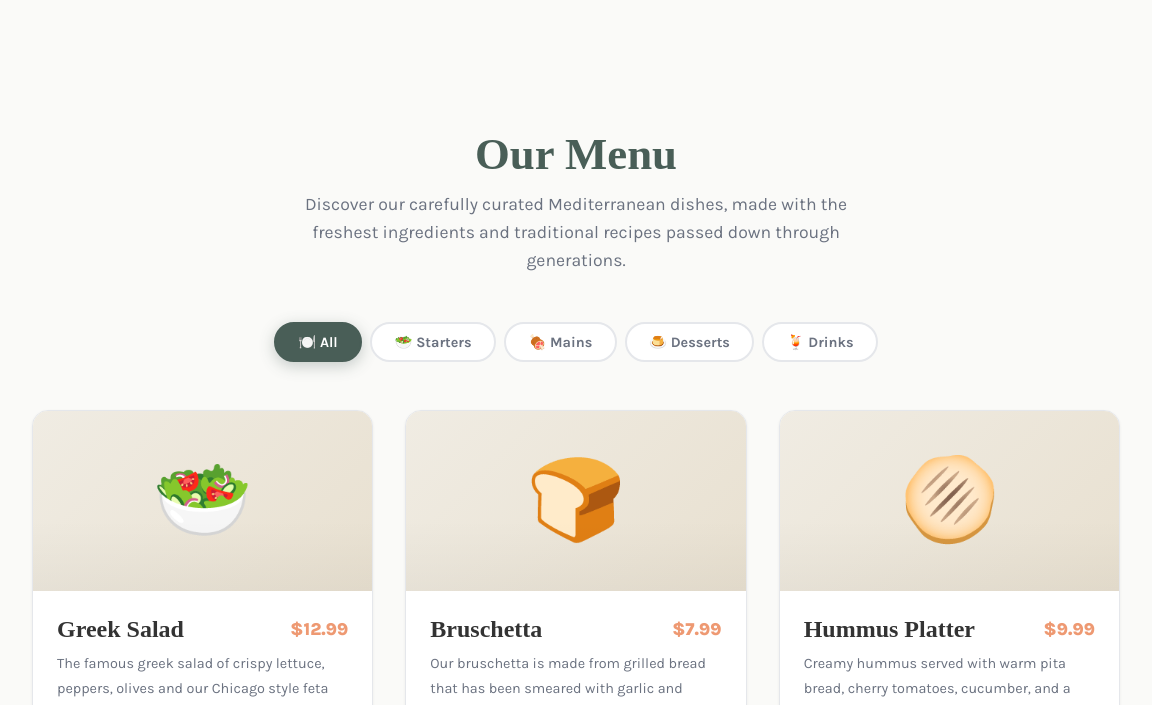
Scenario: Menu Page › filters items when clicking Drinks tab
What coordinates should you click on to do the following:
click the button "🍹 Drinks"
I would click on:
 (820, 342)
Its box is [762,322,878,362].
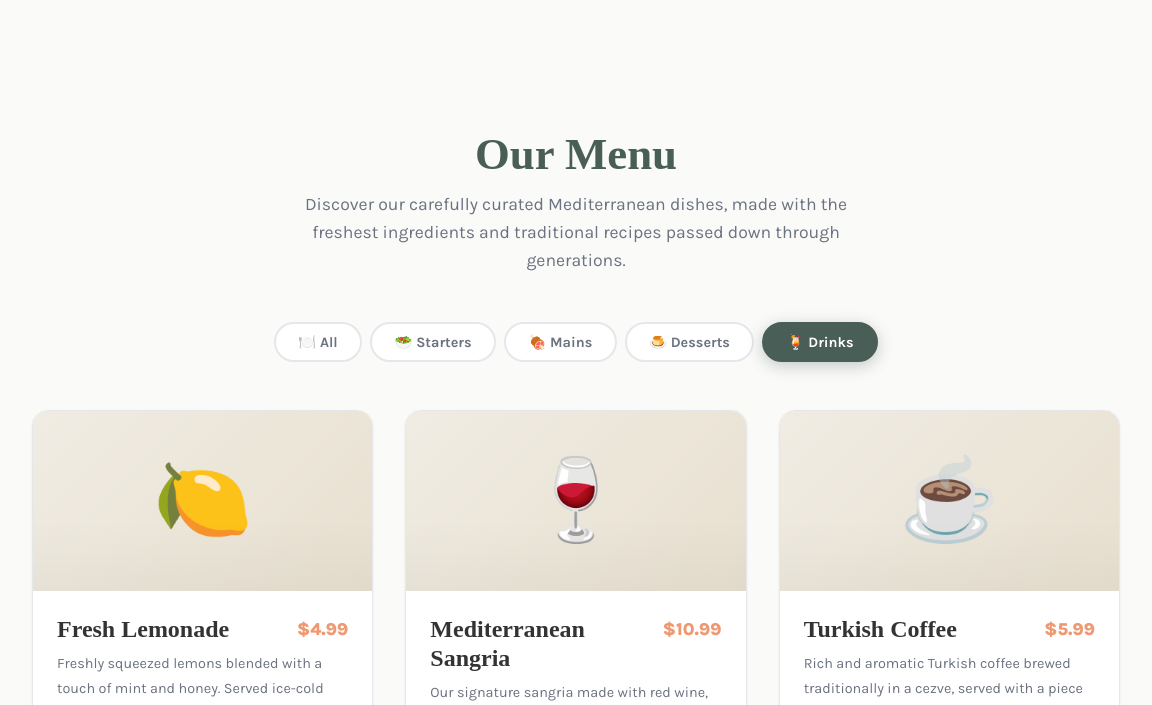
Expected: the heading "Fresh Lemonade" is shown, [57,615,229,644]
Result: the heading "Greek Salad" is gone
